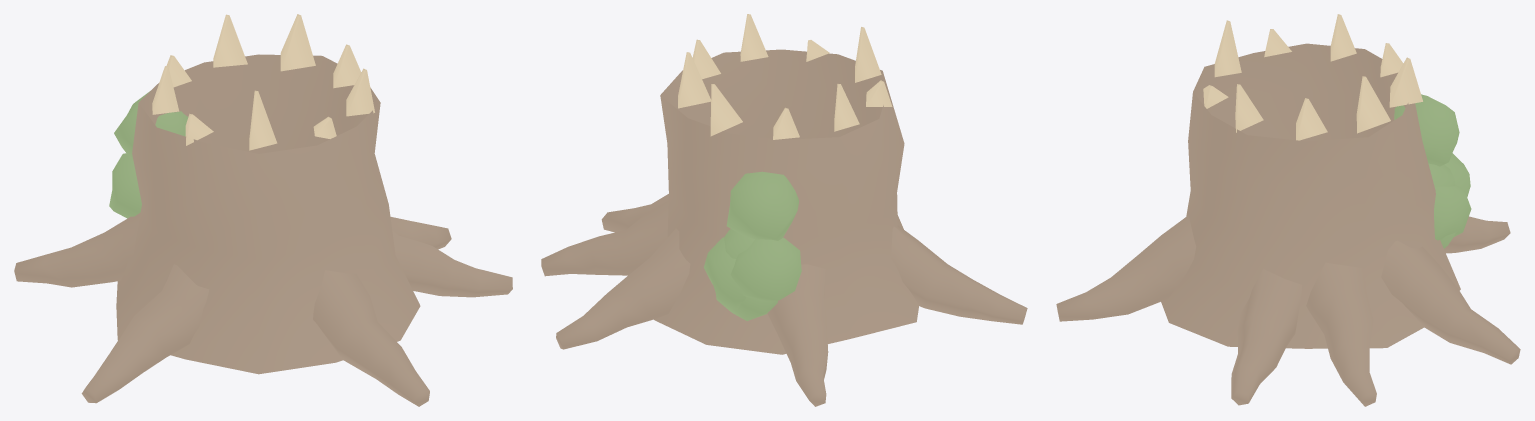
Rendered from Blender_Stump_2.glb.
The picture shows the model from 3 angles, left to right: view 1: azimuth 30°, elevation 25°; view 2: azimuth 150°, elevation 25°; view 3: azimuth 270°, elevation 25°; orthographic projection. The views are drawn at different scales.
Parts seen in each view (by area): view 1: Blender_Stump_2; view 2: Blender_Stump_2; view 3: Blender_Stump_2.
Boxes of the visible parts, x1=… form: Blender_Stump_2: x1=14, y1=14, x2=512, y2=406; Blender_Stump_2: x1=541, y1=14, x2=1027, y2=406; Blender_Stump_2: x1=1056, y1=14, x2=1520, y2=406.
Bounding box in the file's own units: 3.14 × 1.87 × 2.98.
